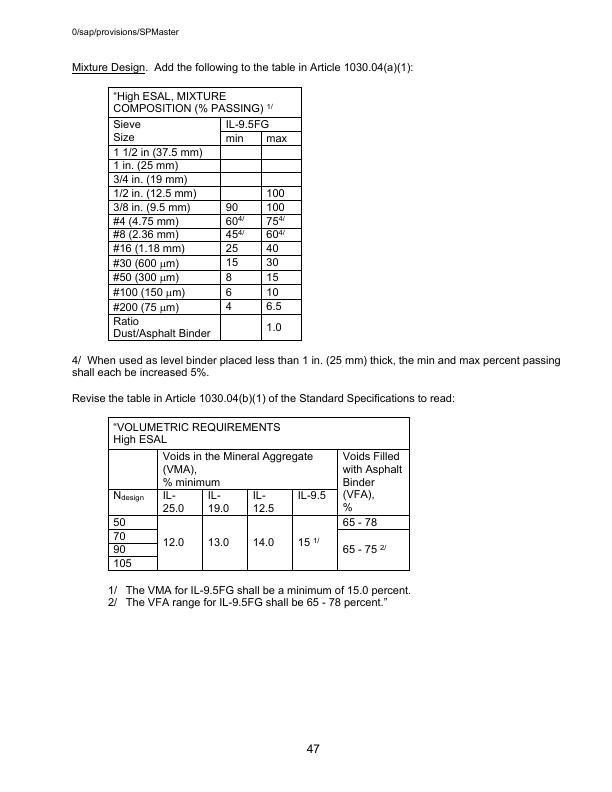table: (104, 85, 307, 344), (102, 412, 415, 577)
text: (66, 353, 564, 382), (107, 580, 414, 612), (67, 390, 461, 408), (67, 57, 416, 76)
